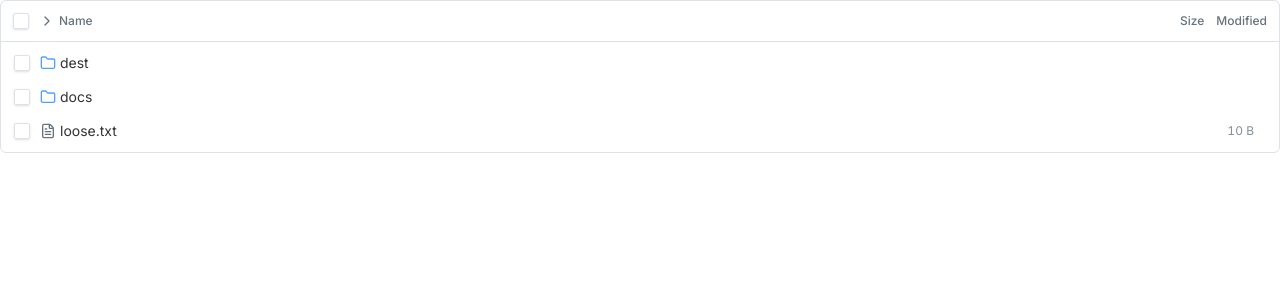
Test: bulk actions on a partially selected directory › keeps the bar reachable and its actions inert once the whole content is unticked
Step 1. Click the button named "Expand all" → (47, 21), box left=39, top=13, right=55, bottom=29
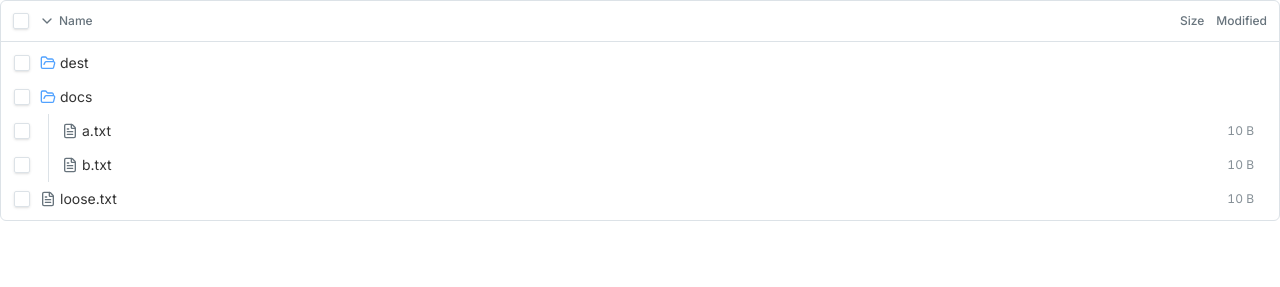
Step 2. Click the checkbox named "Select docs" → (22, 97), box left=14, top=89, right=30, bottom=105
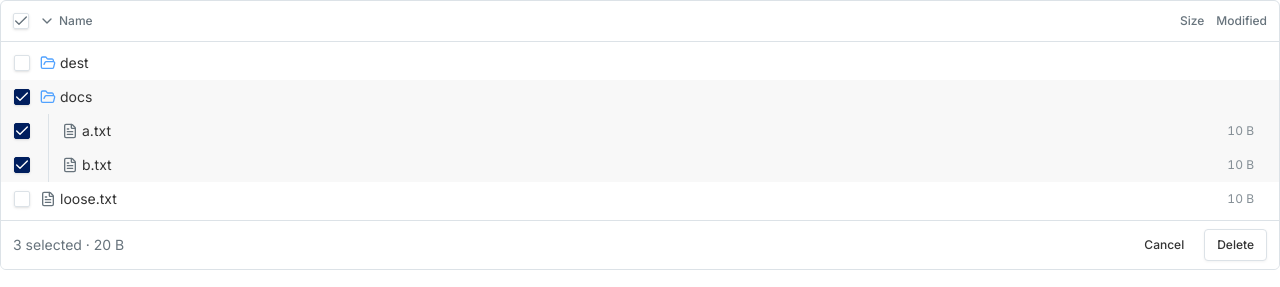
Step 3. Click the checkbox named "Select a.txt" → (22, 131), box left=14, top=123, right=30, bottom=139
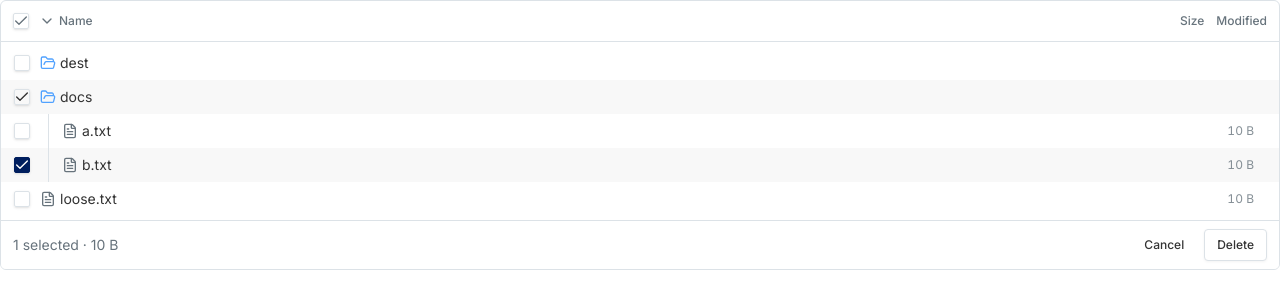
Step 4. Click the checkbox named "Select b.txt" → (22, 165), box left=14, top=157, right=30, bottom=173
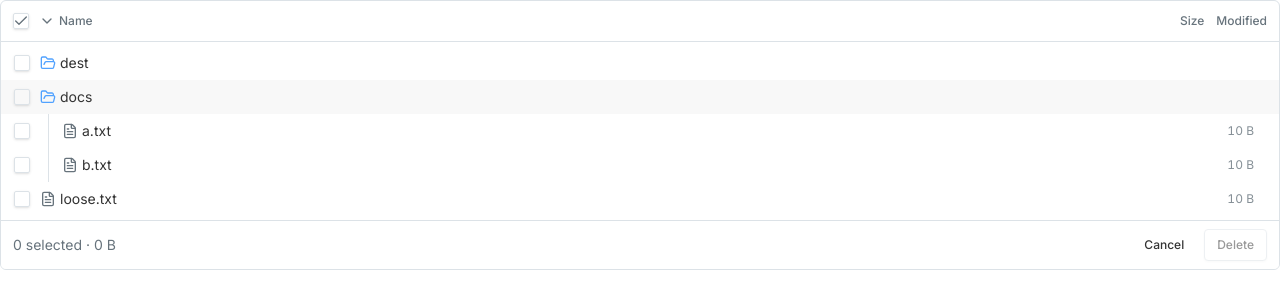
Expected: the button "Cancel" is enabled, left=1132, top=229, right=1196, bottom=261
Expected: the text "0 selected · 0 B" is shown, left=13, top=235, right=116, bottom=255
Expected: the button "Delete" is disabled, left=1204, top=229, right=1267, bottom=261
